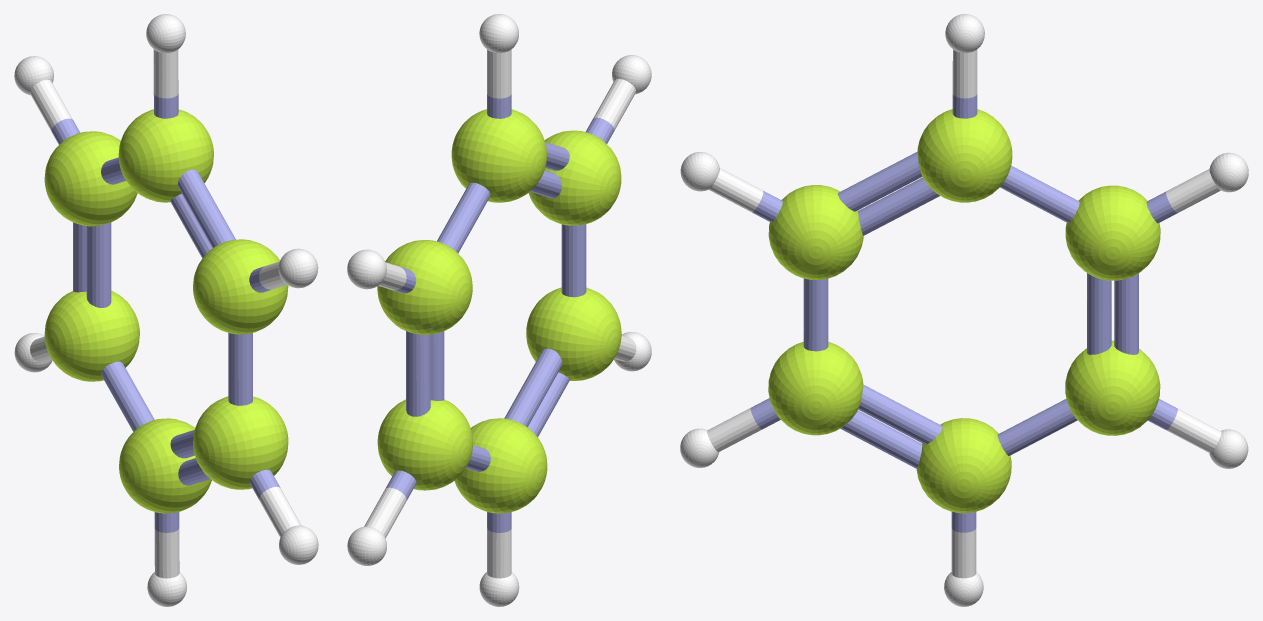
The model's file is molecule.glb.
The picture shows the model from 3 angles, left to right: view 1: azimuth 30°, elevation 25°; view 2: azimuth 150°, elevation 25°; view 3: azimuth 270°, elevation 25°; orthographic projection.
Parts seen in each view (by area): view 1: molecule; view 2: molecule; view 3: molecule.
Boxes of the visible parts, bbox=[...] form: molecule: bbox=[14, 14, 318, 606]; molecule: bbox=[347, 14, 651, 606]; molecule: bbox=[680, 14, 1248, 606].
Size of the model in its own units: 0.772 by 5.24 by 4.59.
